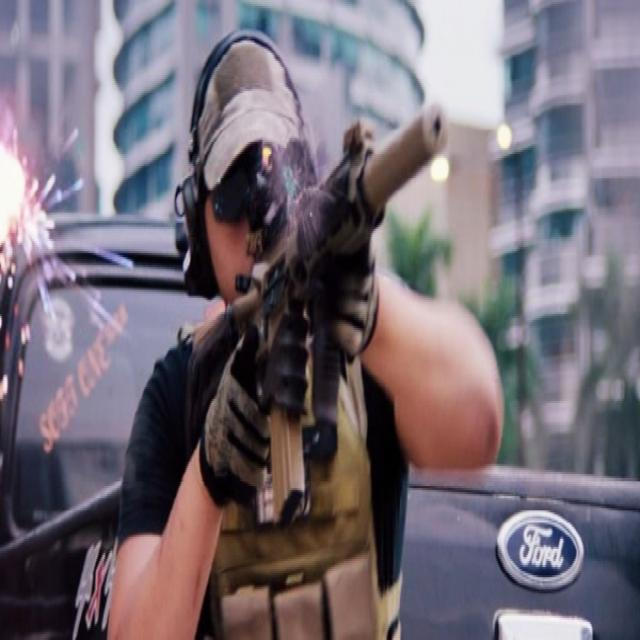rifle: (186, 83, 457, 518)
